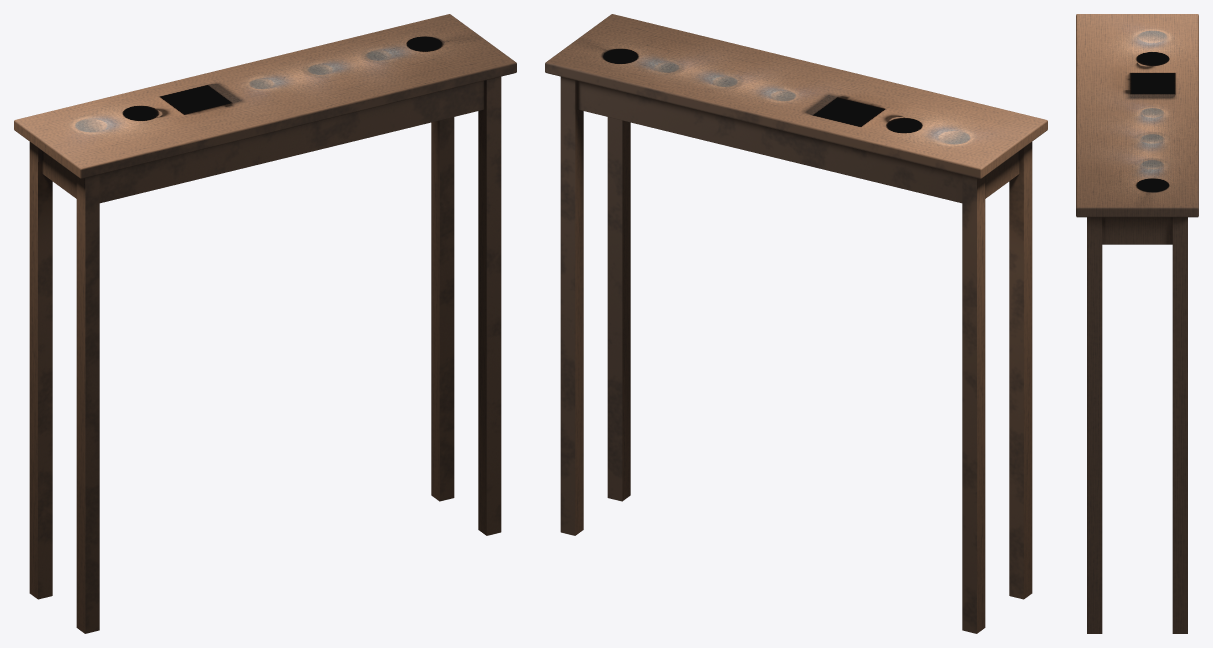
Rendered from 602_hook.glb.
The picture shows the model from 3 angles, left to right: view 1: azimuth 30°, elevation 25°; view 2: azimuth 150°, elevation 25°; view 3: azimuth 270°, elevation 25°; orthographic projection. The views are drawn at different scales.
Visible parts, largest first — view 1: Table; view 2: Table; view 3: Table.
Part boxes in pixels (x1=…): Table: x1=14, y1=14, x2=516, y2=633; Table: x1=545, y1=14, x2=1047, y2=633; Table: x1=1076, y1=14, x2=1198, y2=633.
Size of what is drawn, in the model's own units: 3 by 3.1 by 0.8.
1 material, 1 textured.
